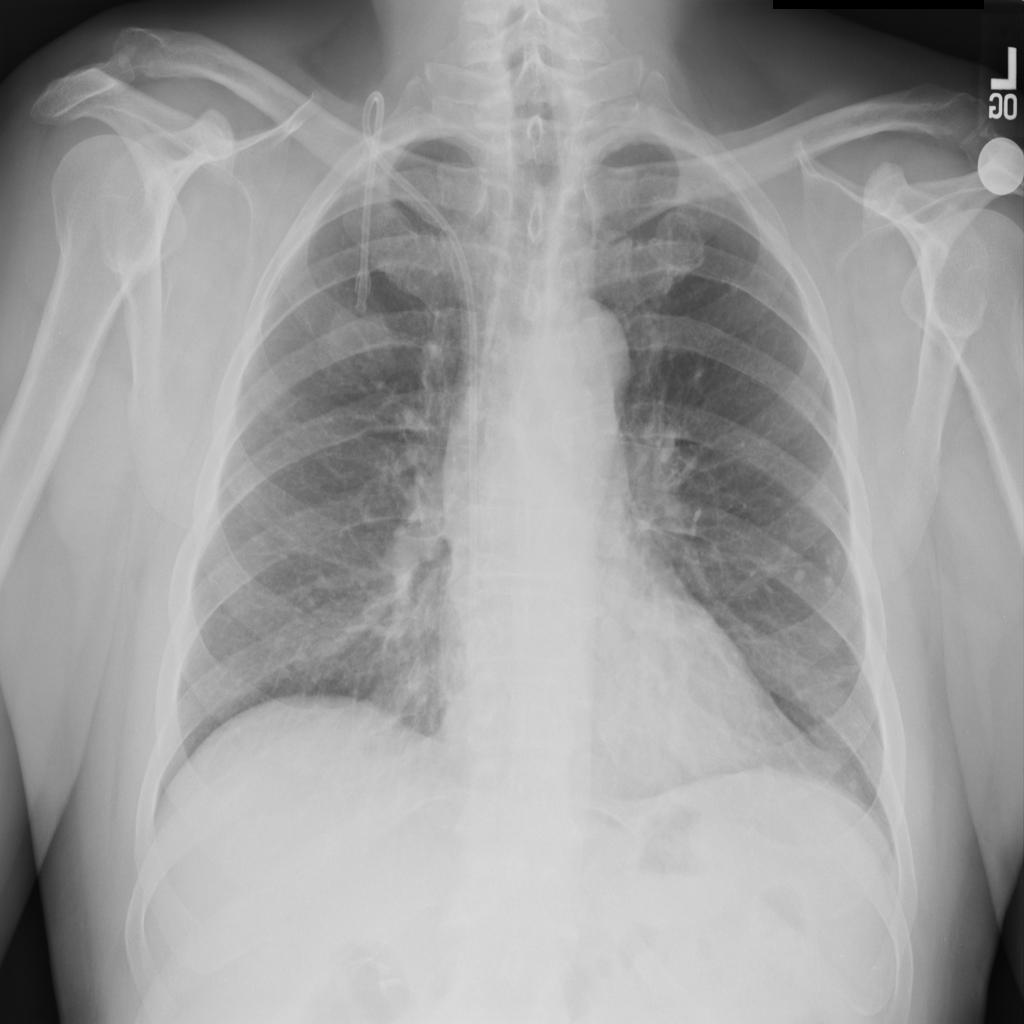nodule: (311, 281, 409, 406), (825, 760, 875, 810), (780, 551, 828, 603)
